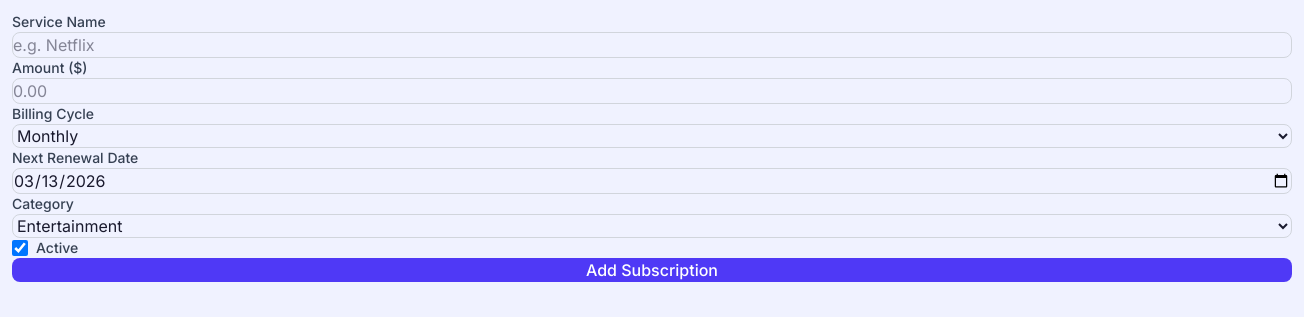
Test case: SubscriptionForm › shows validation error when name is empty
This screenshot has width=1304, height=317.
Type "9.99" into the number field named "amount" at x=652, y=91, box [12,78,1292,104]
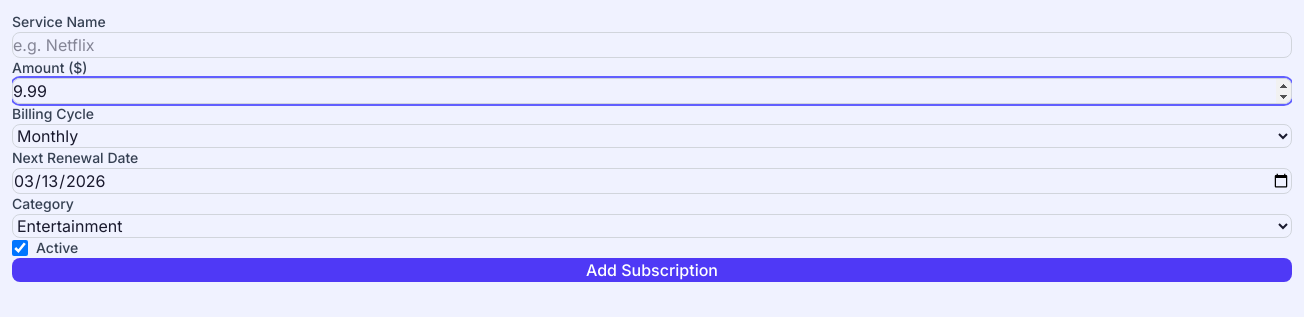
Click the button "Add Subscription" at x=652, y=270, box [12,258,1292,282]
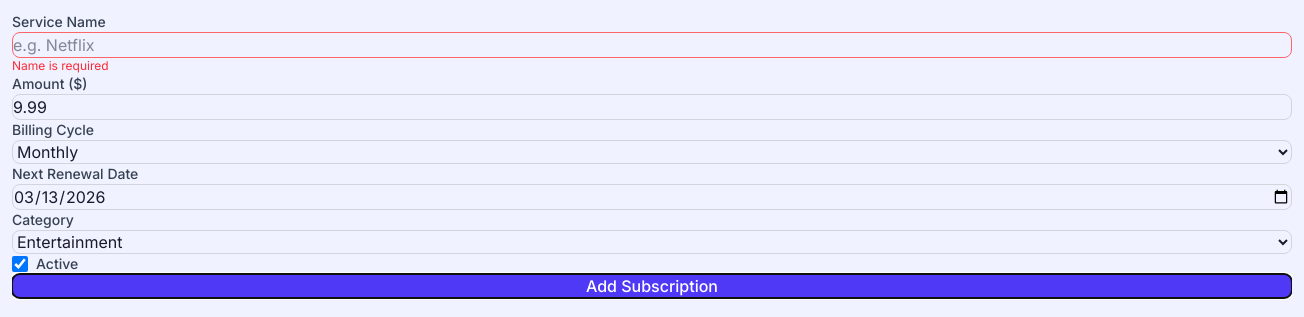
Check: the message "Name is required" is shown, box [12,58,109,73]
